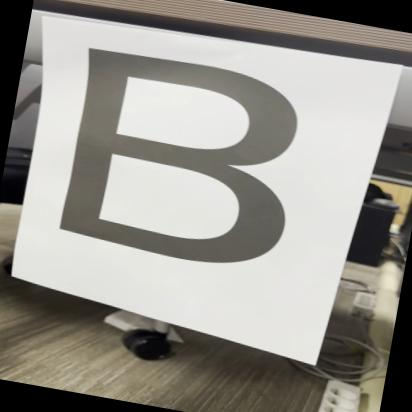seat: (33, 31, 352, 300)
